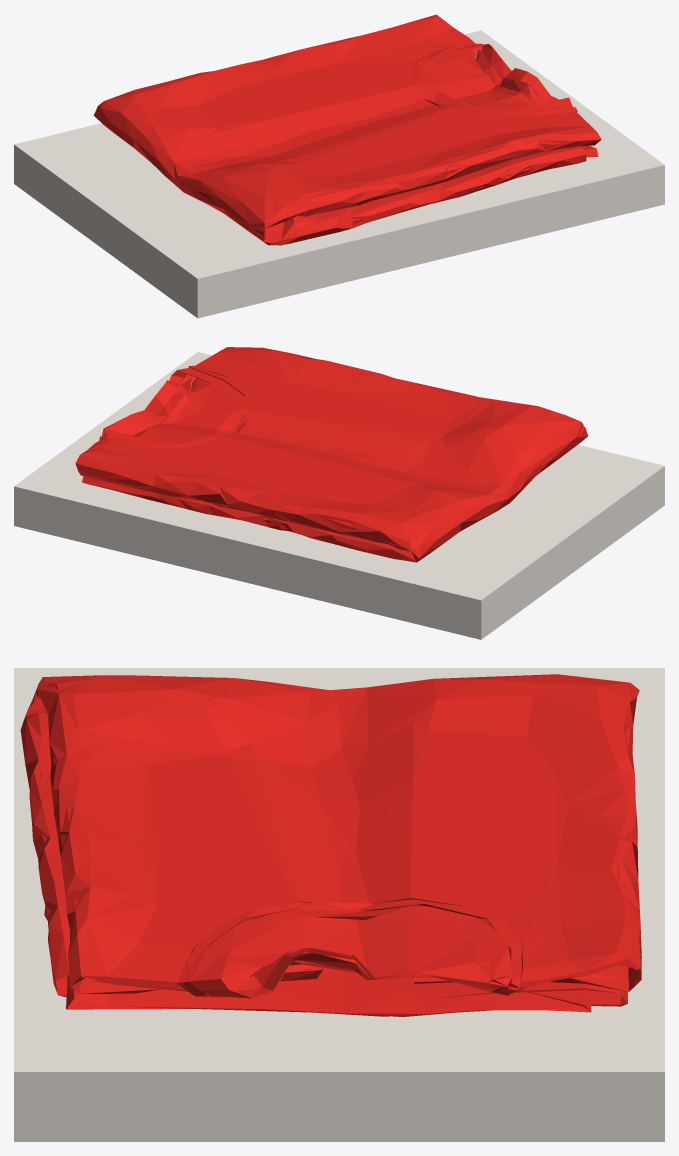
The model's file is Wall_Rack_Sneaker.fbx.
3 renders of one model, top to bottom at view 1: azimuth 30°, elevation 25°; view 2: azimuth 150°, elevation 25°; view 3: azimuth 270°, elevation 25°, orthographic. The views are drawn at different scales.
Visible parts, largest first — view 1: T-shirts one.002, Cube.050; view 2: T-shirts one.002, Cube.050; view 3: T-shirts one.002, Cube.050.
Part boxes in pixels (x1=…): T-shirts one.002: x1=93, y1=14, x2=601, y2=245; Cube.050: x1=14, y1=30, x2=664, y2=318; T-shirts one.002: x1=75, y1=347, x2=588, y2=562; Cube.050: x1=14, y1=352, x2=664, y2=639; T-shirts one.002: x1=20, y1=674, x2=641, y2=1016; Cube.050: x1=14, y1=668, x2=664, y2=1141.
Bounding box in the file's own units: 83.7 × 14.46 × 57.02.
